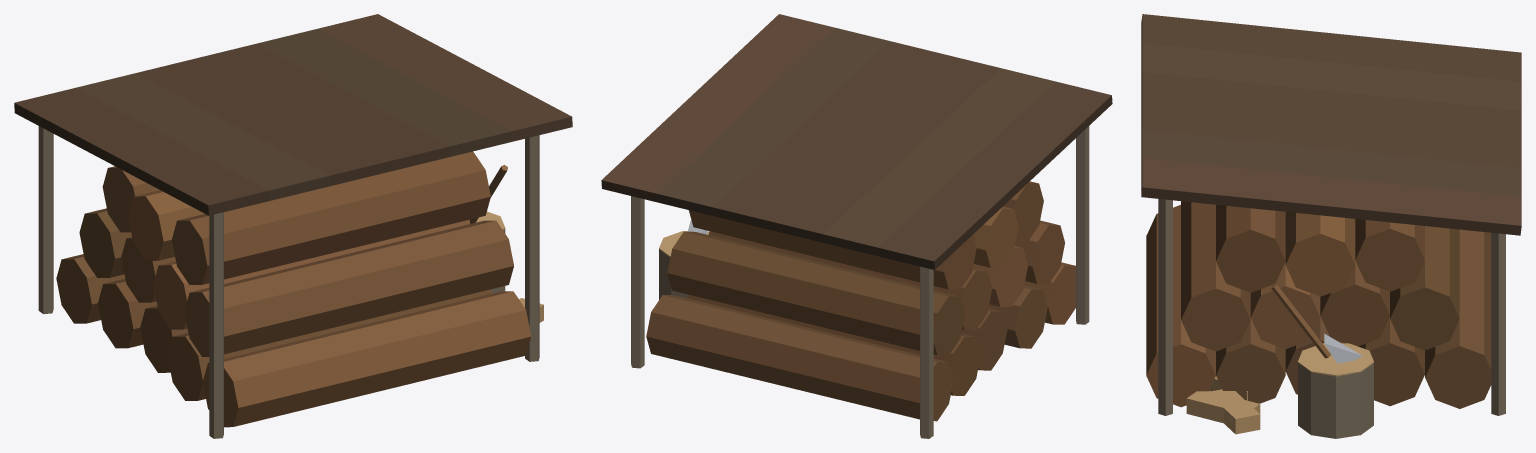
Rendered from DecorWoodpile.glb.
The picture shows the model from 3 angles, left to right: view 1: azimuth 30°, elevation 25°; view 2: azimuth 150°, elevation 25°; view 3: azimuth 270°, elevation 25°; orthographic projection. The views are drawn at different scales.
Parts seen in each view (by area): view 1: Mat_Wood_61462e, Mat_Wood_785435, Mat_Wood_836a51; view 2: Mat_Wood_61462e, Mat_Wood_785435, Mat_Wood_836a51; view 3: Mat_Wood_61462e, Mat_Wood_785435, Mat_Wood_836a51, Mat_Thatch_bc986a, Mat_Thatch_c4a070, Mat_Stone_b0b4ba.
Part boxes in pixels (x1=…): Mat_Wood_61462e: x1=14, y1=14, x2=572, y2=372; Mat_Wood_785435: x1=102, y1=151, x2=531, y2=427; Mat_Wood_836a51: x1=38, y1=126, x2=539, y2=438; Mat_Wood_61462e: x1=601, y1=14, x2=1112, y2=421; Mat_Wood_785435: x1=688, y1=181, x2=1075, y2=348; Mat_Wood_836a51: x1=631, y1=126, x2=1089, y2=438; Mat_Wood_61462e: x1=1141, y1=14, x2=1521, y2=408; Mat_Wood_785435: x1=1146, y1=201, x2=1491, y2=408; Mat_Wood_836a51: x1=1158, y1=199, x2=1505, y2=438; Mat_Thatch_bc986a: x1=1186, y1=376, x2=1260, y2=434; Mat_Thatch_c4a070: x1=1298, y1=343, x2=1373, y2=376; Mat_Stone_b0b4ba: x1=1324, y1=333, x2=1362, y2=363.
Size of the model in its own units: 5.7 by 3.4 by 4.92.
Materials: 1 (1 with a texture image).
